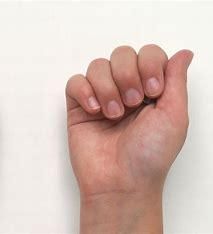closed: (64, 43, 194, 192)
